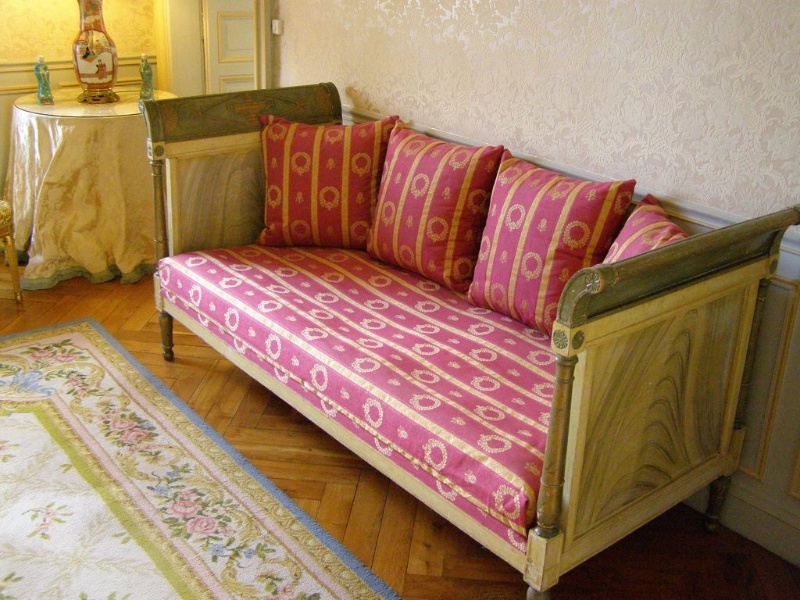couch: (143, 80, 790, 579)
